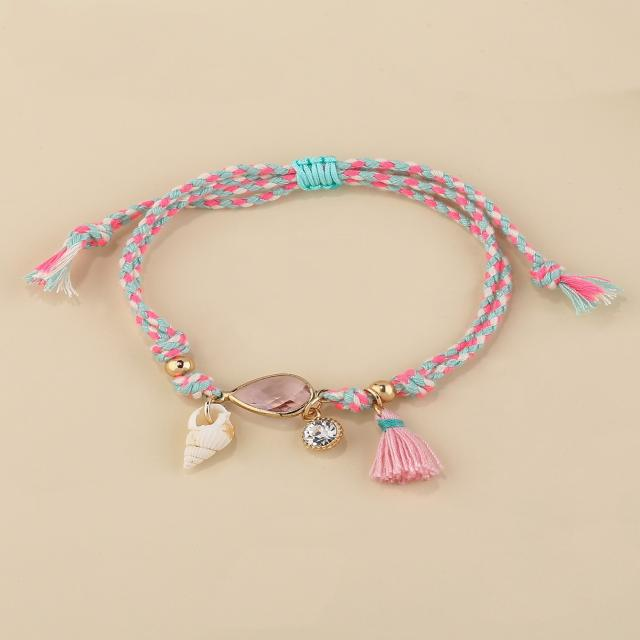bracelet: (29, 108, 640, 516)
